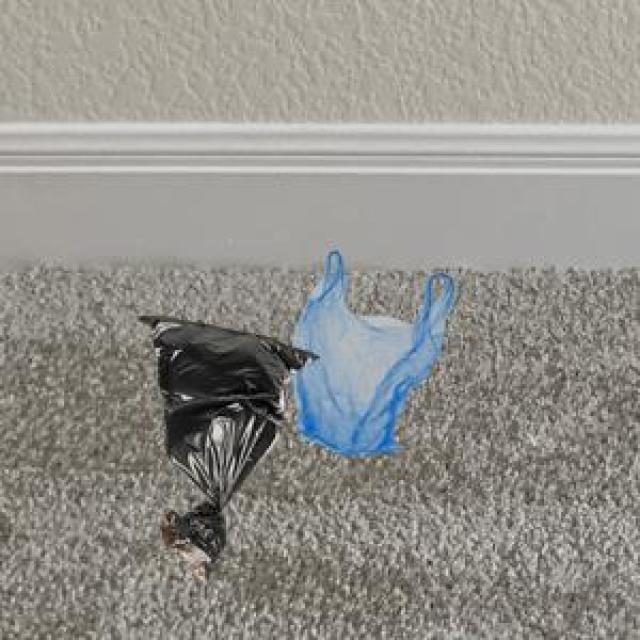miscellaneous trash: (136, 314, 314, 576)
